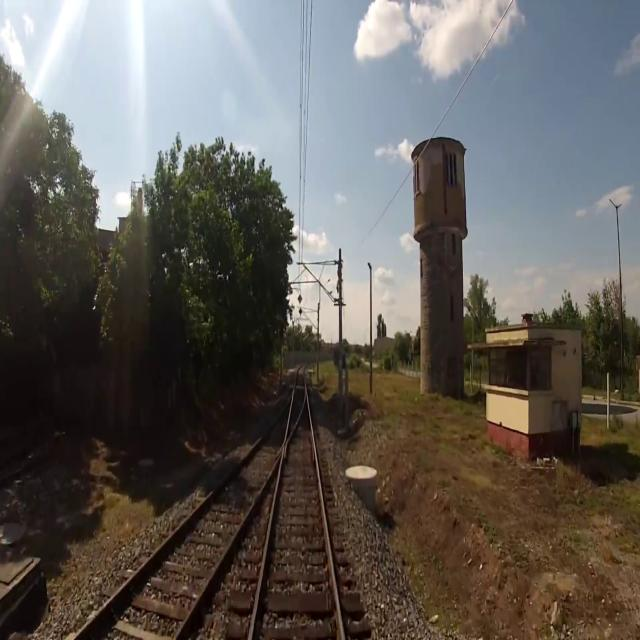rail-track: (79, 404, 289, 639), (253, 406, 341, 639), (289, 367, 304, 430)
